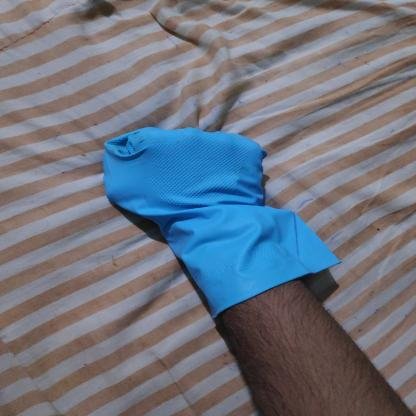gloved_hand: (98, 125, 347, 314)
